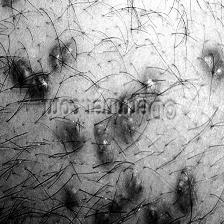Unclassified: (16, 121, 202, 224), (3, 13, 224, 99)
